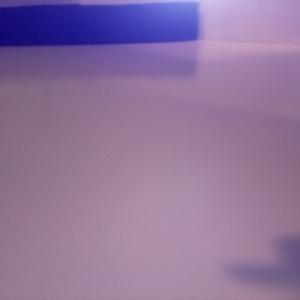alive_ball: (1, 116, 115, 300)
dead_ball: (113, 21, 187, 98)
